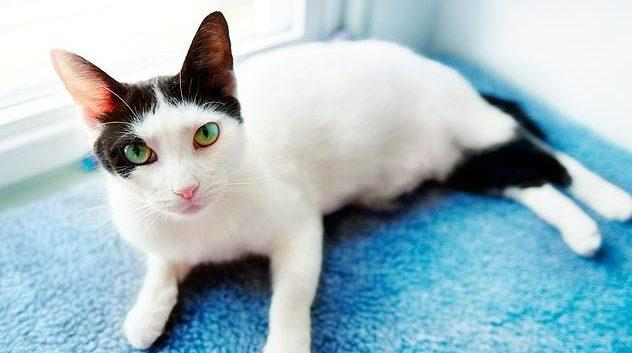Cat: (42, 5, 291, 220)
